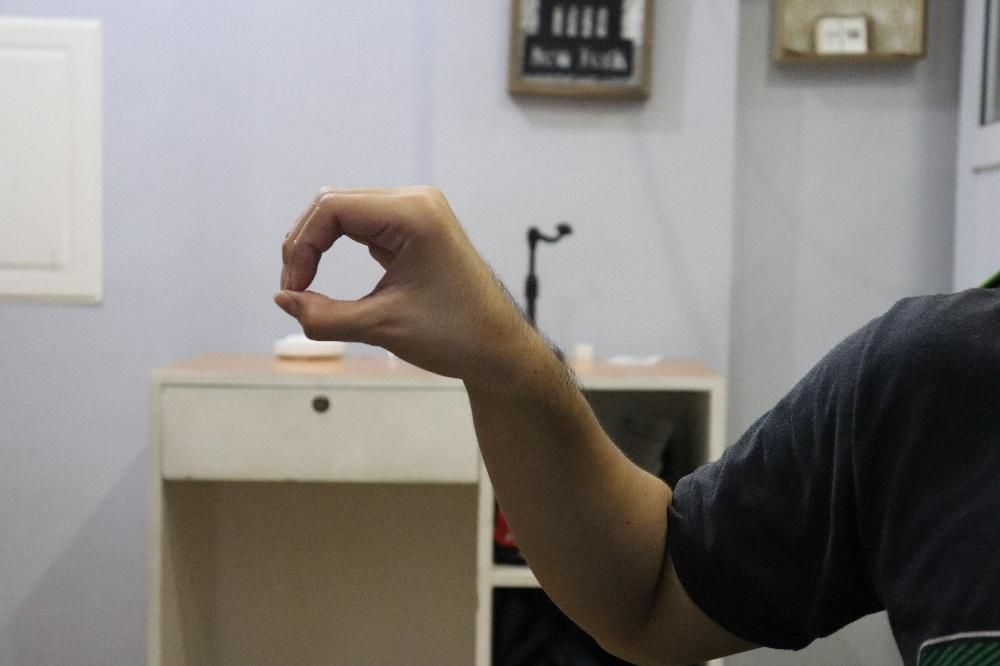o: (271, 183, 484, 380)
